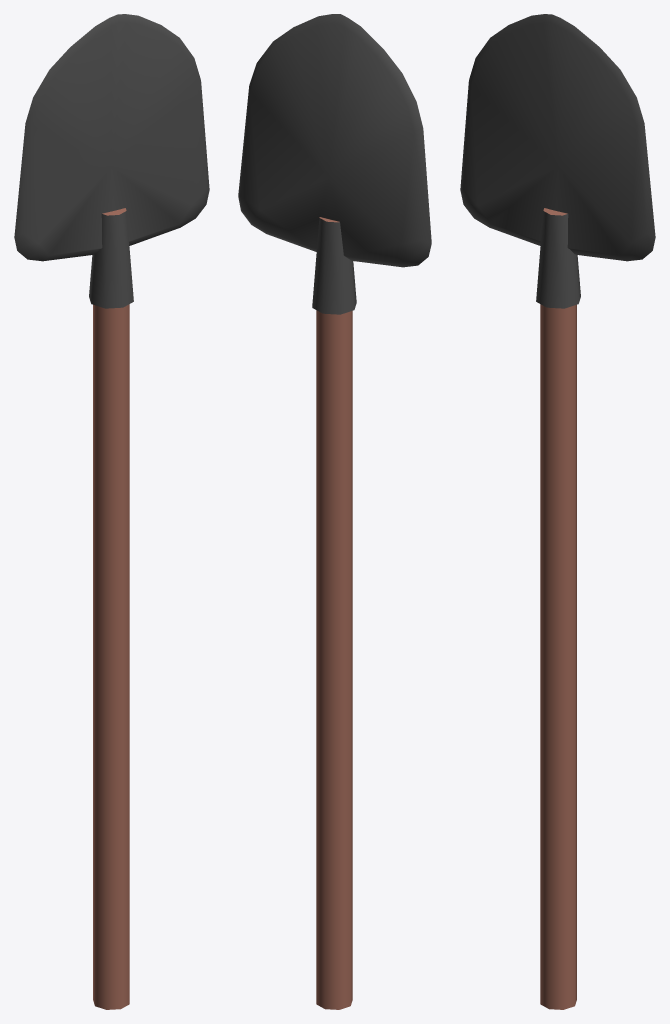
Rendered from Shovel.gltf.
The picture shows the model from 3 angles, left to right: view 1: azimuth 30°, elevation 25°; view 2: azimuth 150°, elevation 25°; view 3: azimuth 330°, elevation 25°; orthographic projection.
Parts seen in each view (by area): view 1: Shovel; view 2: Shovel; view 3: Shovel.
Part boxes in pixels (x1,y1,x2,y2): Shovel: (14, 14, 209, 1009); Shovel: (238, 14, 431, 1009); Shovel: (460, 14, 655, 1009).
Bounding box in the file's own units: 0.3985 × 1.94 × 0.0823.
